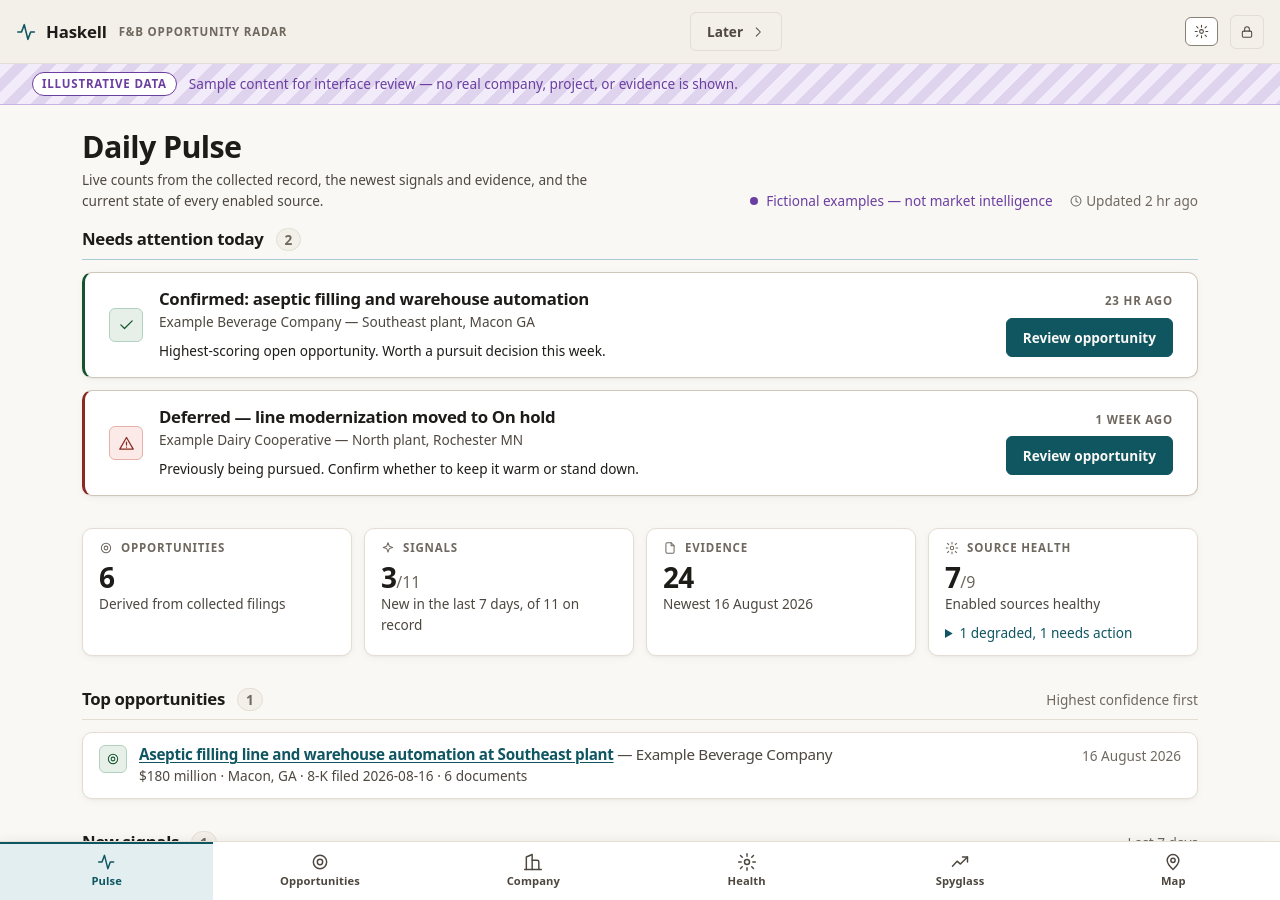
Test: reserved destinations › keeps them reachable from a labelled menu on a phone
Expected: the navigation bar named "Primary" is shown, left=0, top=841, right=1279, bottom=899
What coordinates should you click on to do the following:
click the button "Later"
I would click on:
 (736, 32)
Its box is left=690, top=12, right=782, bottom=51.
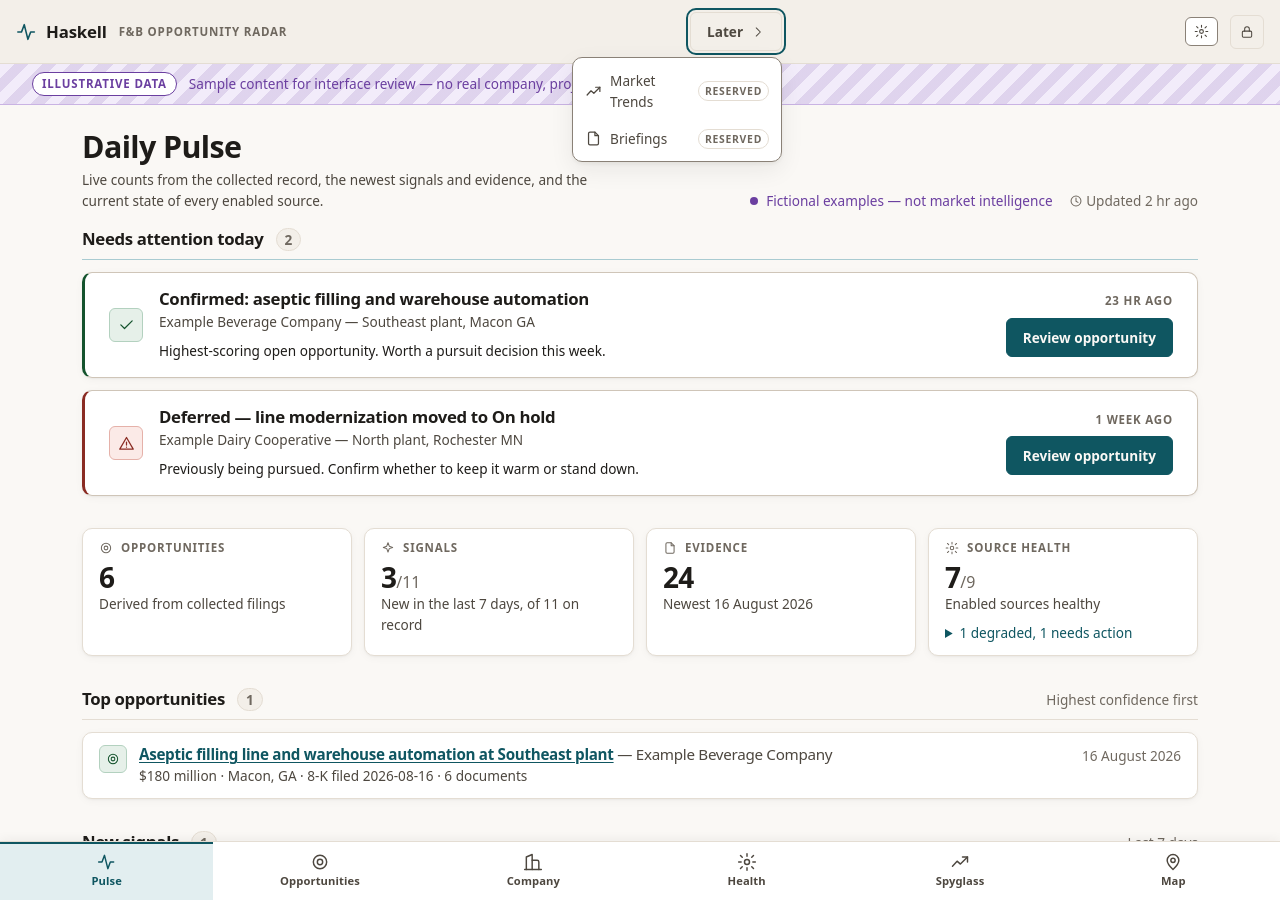
Now the link "Market Trends Reserved" is shown, box left=577, top=62, right=777, bottom=120
Now the link "Briefings Reserved" is shown, box left=585, top=129, right=769, bottom=149
